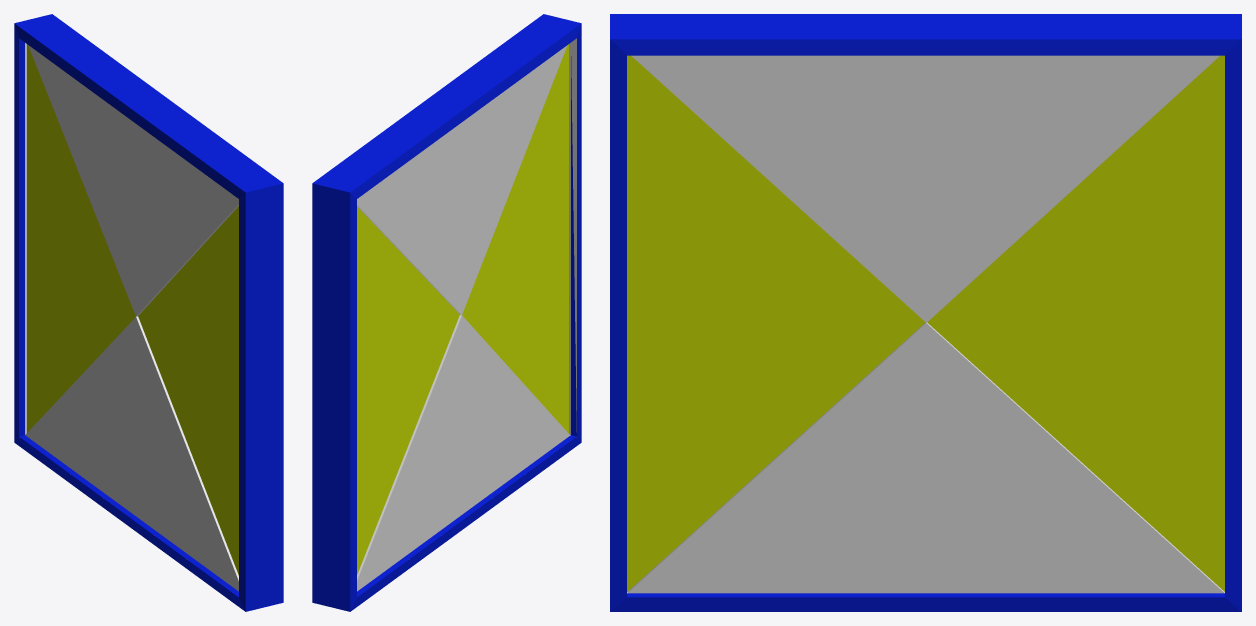
The model's file is Wall.fbx.
The picture shows the model from 3 angles, left to right: view 1: azimuth 30°, elevation 25°; view 2: azimuth 150°, elevation 25°; view 3: azimuth 270°, elevation 25°; orthographic projection. The views are drawn at different scales.
Visible parts, largest first — view 1: Cube; view 2: Cube; view 3: Cube.
Part boxes in pixels (bbox=[...]): Cube: bbox=[14, 14, 283, 611]; Cube: bbox=[312, 14, 581, 611]; Cube: bbox=[610, 14, 1241, 611].
Bounding box in the file's own units: 20 × 200 × 200.
